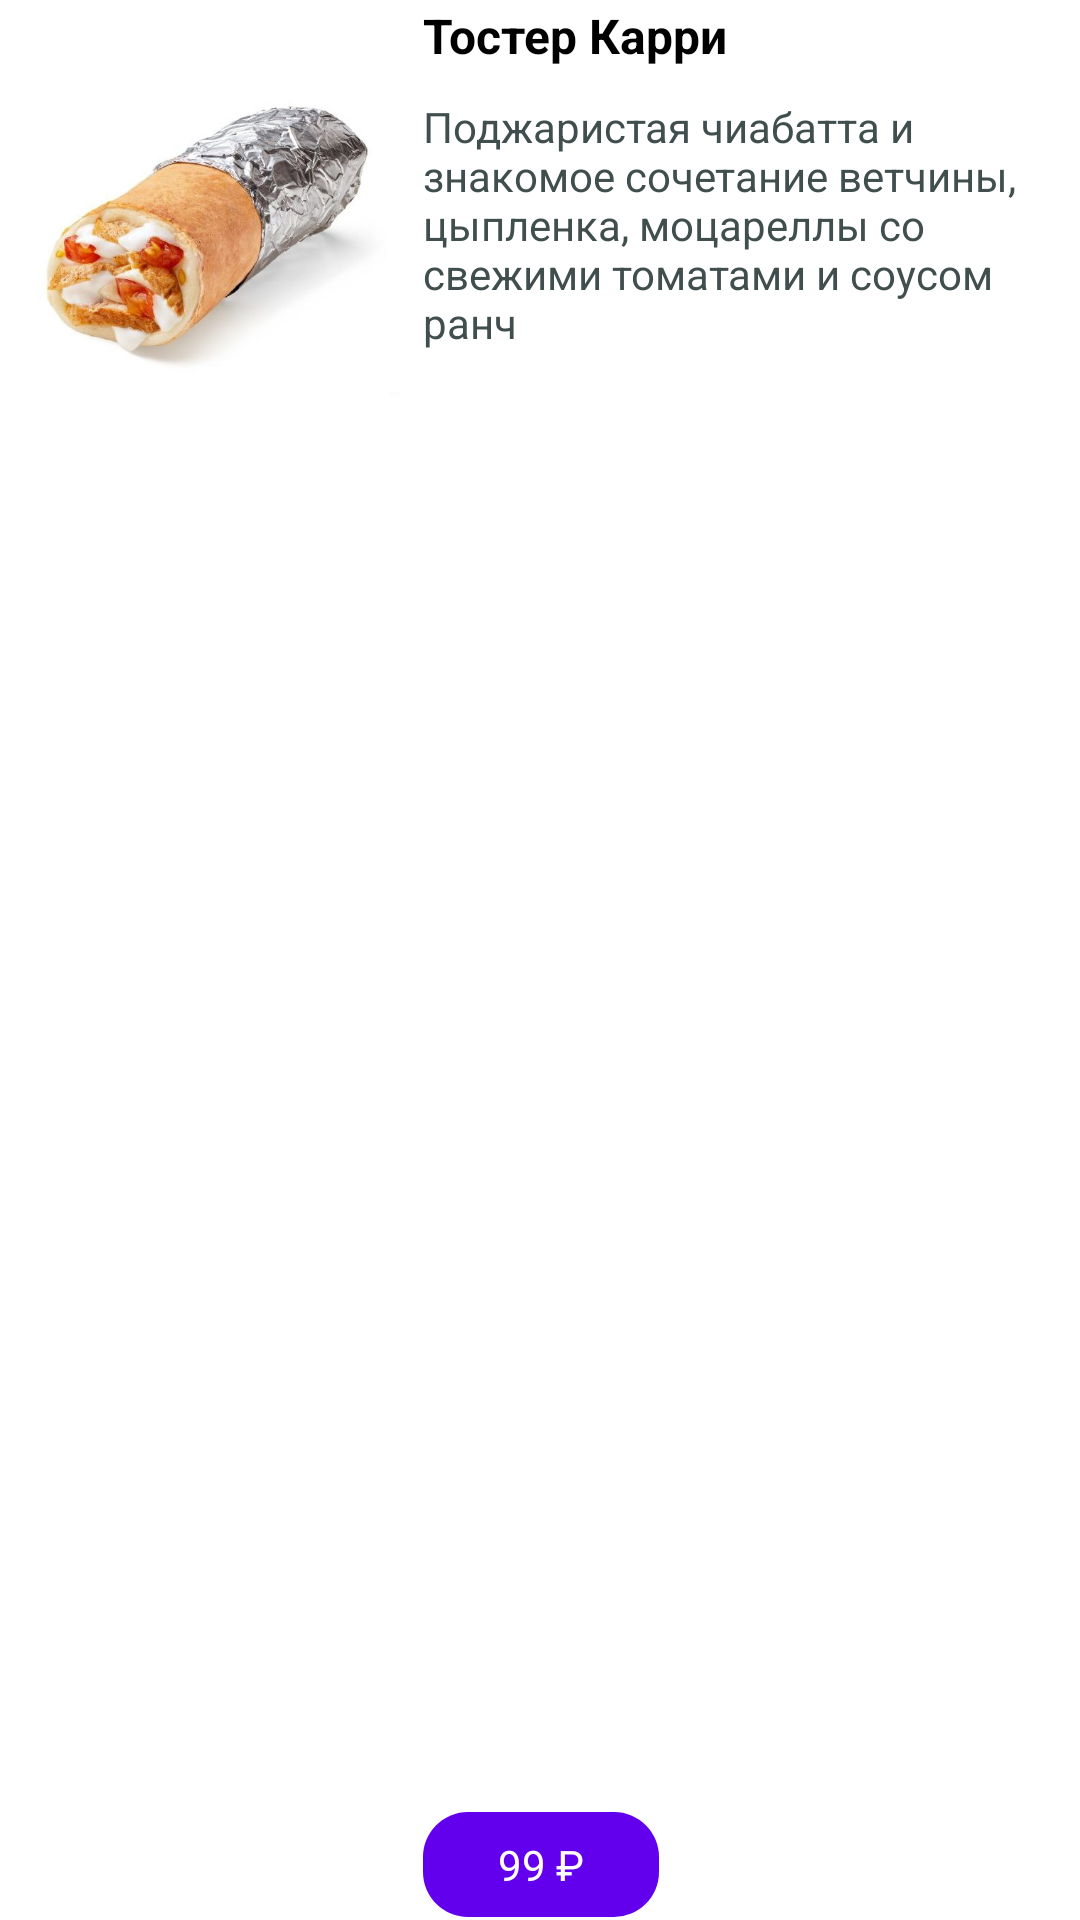

Screen size 1080×1920. Icon name, then its center in pixels as [x,y]:
Image with food: [207,235]
